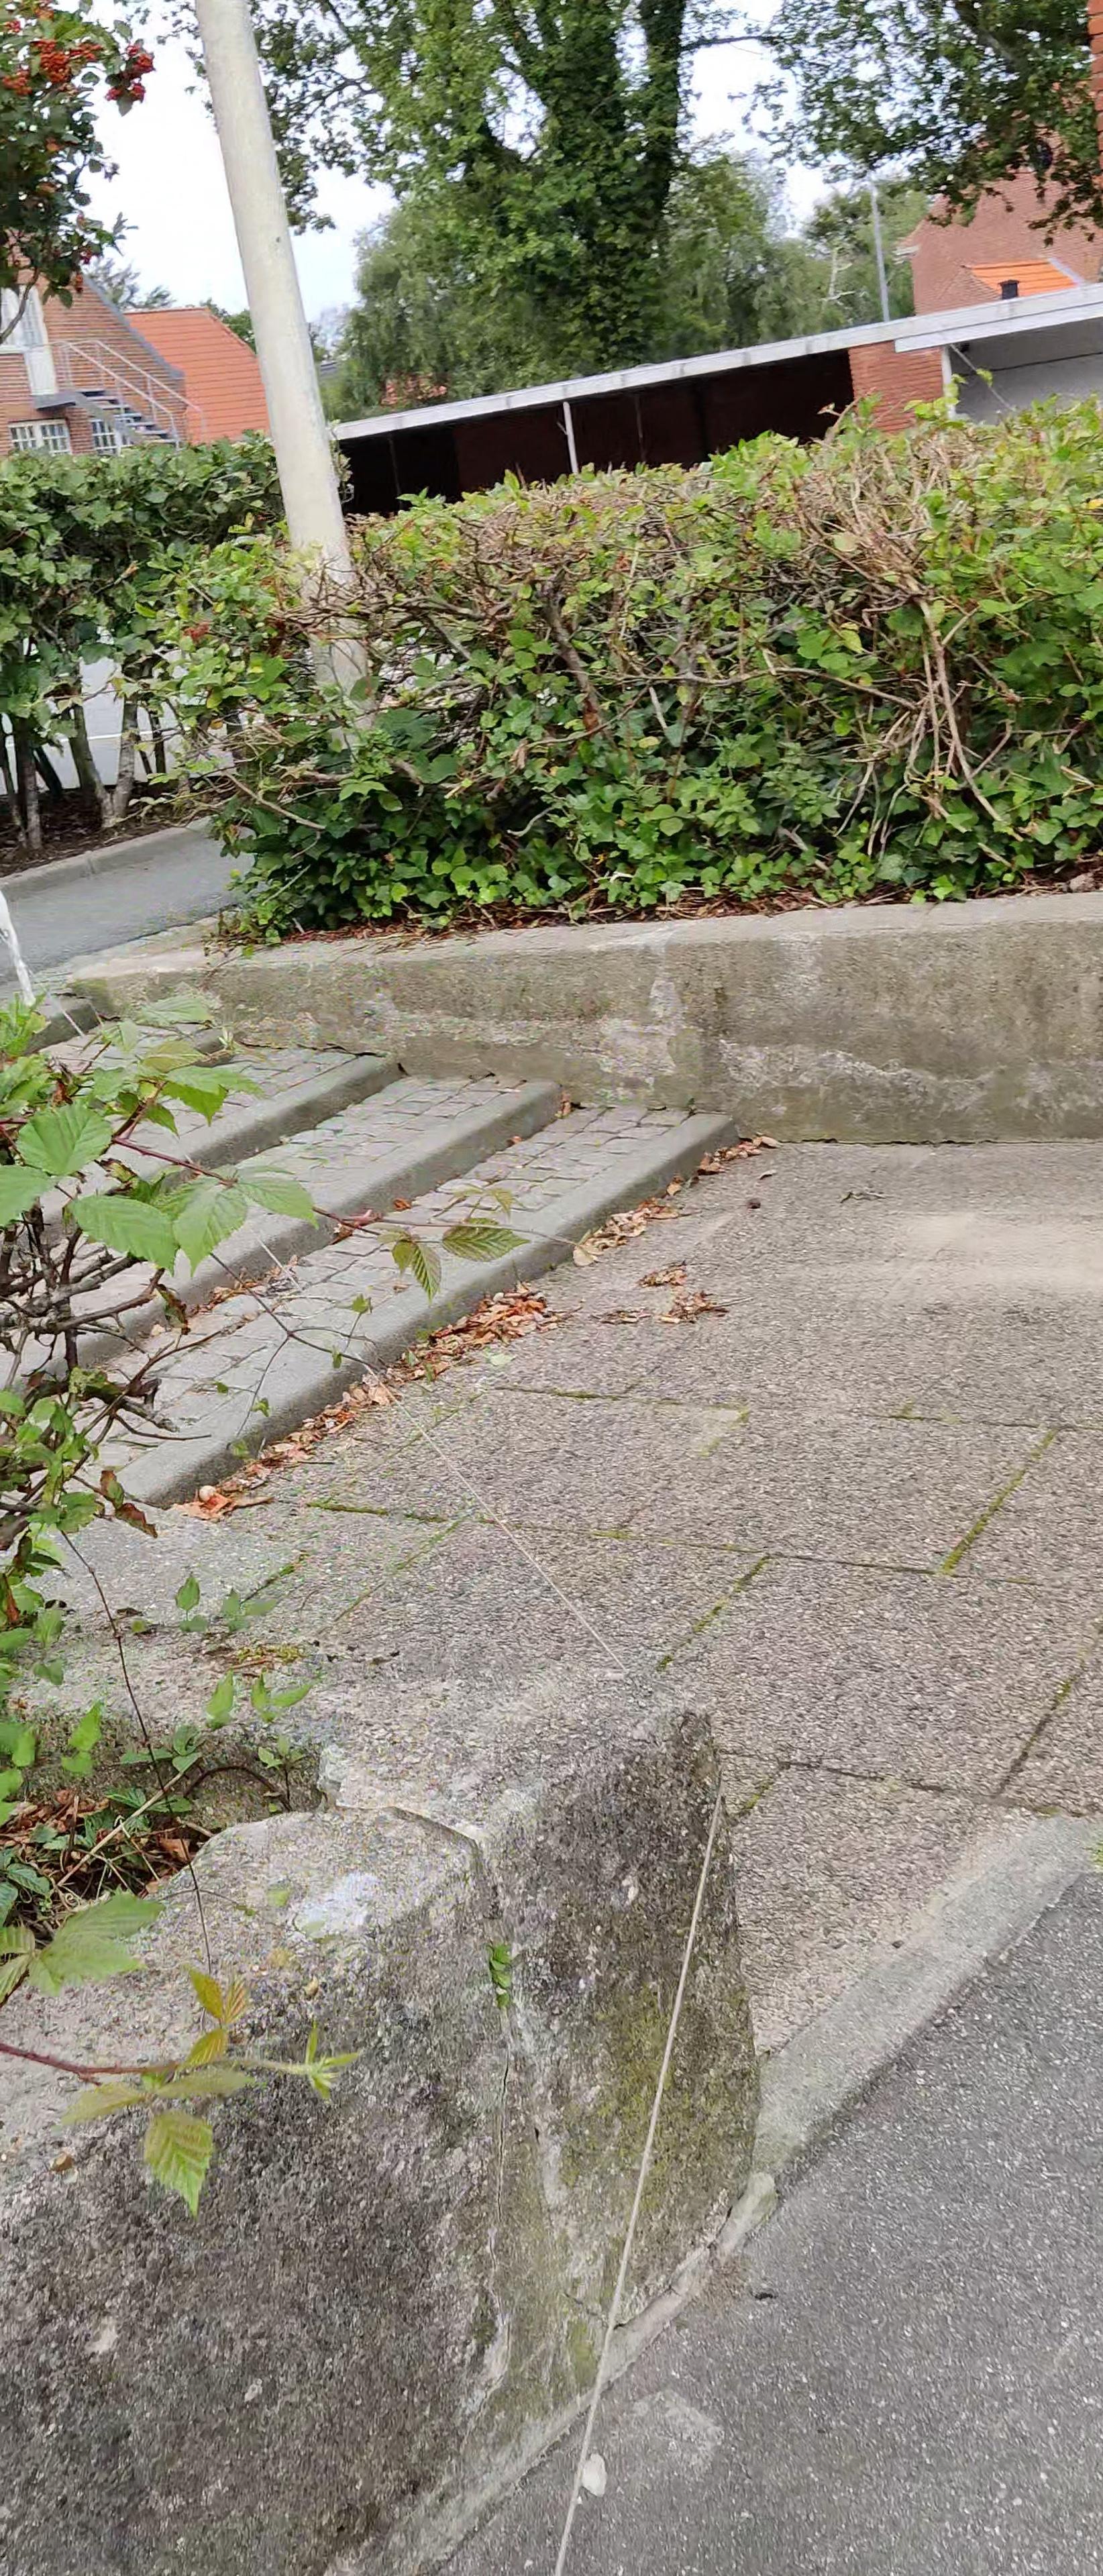Dog: (0, 884, 43, 1025)
